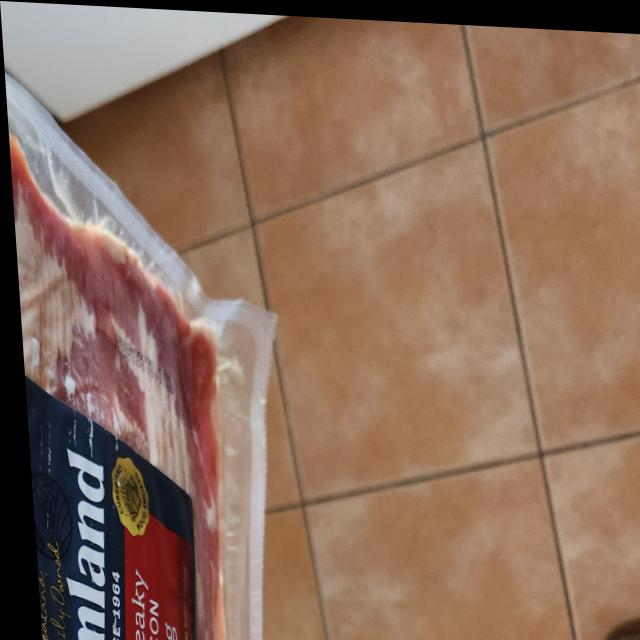bacon: (0, 0, 297, 640)
